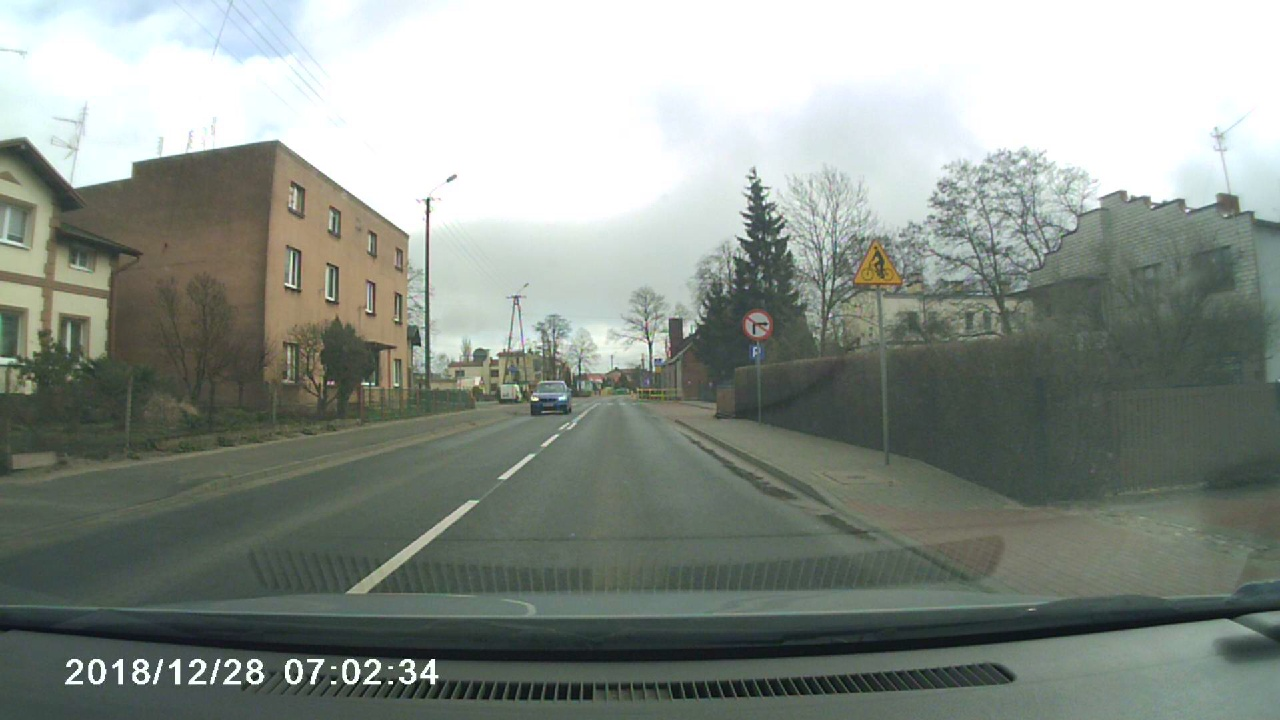B22: (740, 307, 775, 337)
